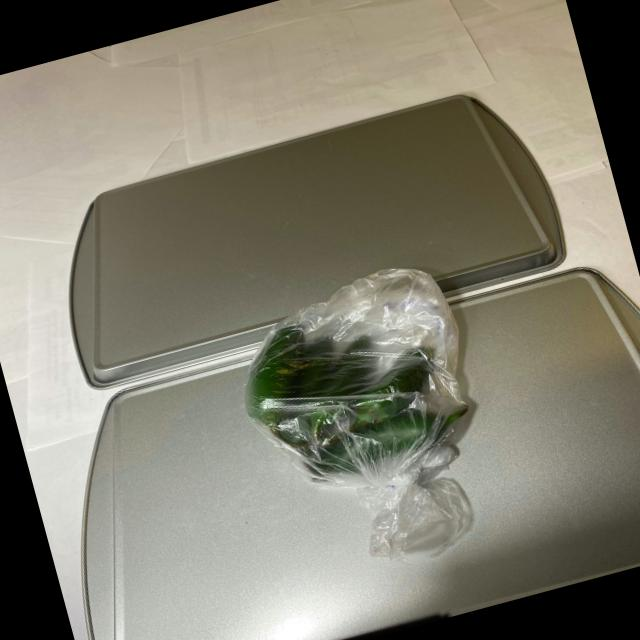chilli: (221, 272, 489, 520)
